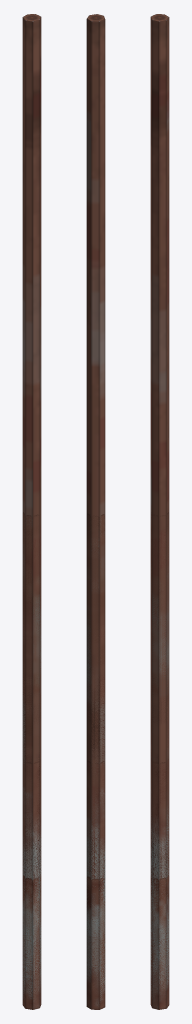
Rendered from Rebar.fbx.
3 views of the same model, side by side, from view 1: azimuth 30°, elevation 25°; view 2: azimuth 150°, elevation 25°; view 3: azimuth 330°, elevation 25° (orthographic).
Visible parts, largest first — view 1: XL_Rebar, L_Rebar, M_Rebar, S_Rebar; view 2: XL_Rebar, L_Rebar, M_Rebar, S_Rebar; view 3: XL_Rebar, L_Rebar, M_Rebar, S_Rebar.
Part boxes in pixels (x1,y1,x2,y2): XL_Rebar: [22, 14, 41, 1009]; L_Rebar: [22, 512, 41, 1008]; M_Rebar: [22, 759, 41, 1009]; S_Rebar: [22, 875, 41, 1009]; XL_Rebar: [86, 14, 105, 1009]; L_Rebar: [86, 513, 105, 1009]; M_Rebar: [86, 760, 105, 1009]; S_Rebar: [86, 876, 105, 1009]; XL_Rebar: [150, 14, 169, 1009]; L_Rebar: [150, 512, 169, 1008]; M_Rebar: [150, 759, 169, 1009]; S_Rebar: [150, 875, 169, 1009].
Bounding box in the file's own units: 13.53 × 800 × 13.19.
1 material, 1 textured.
